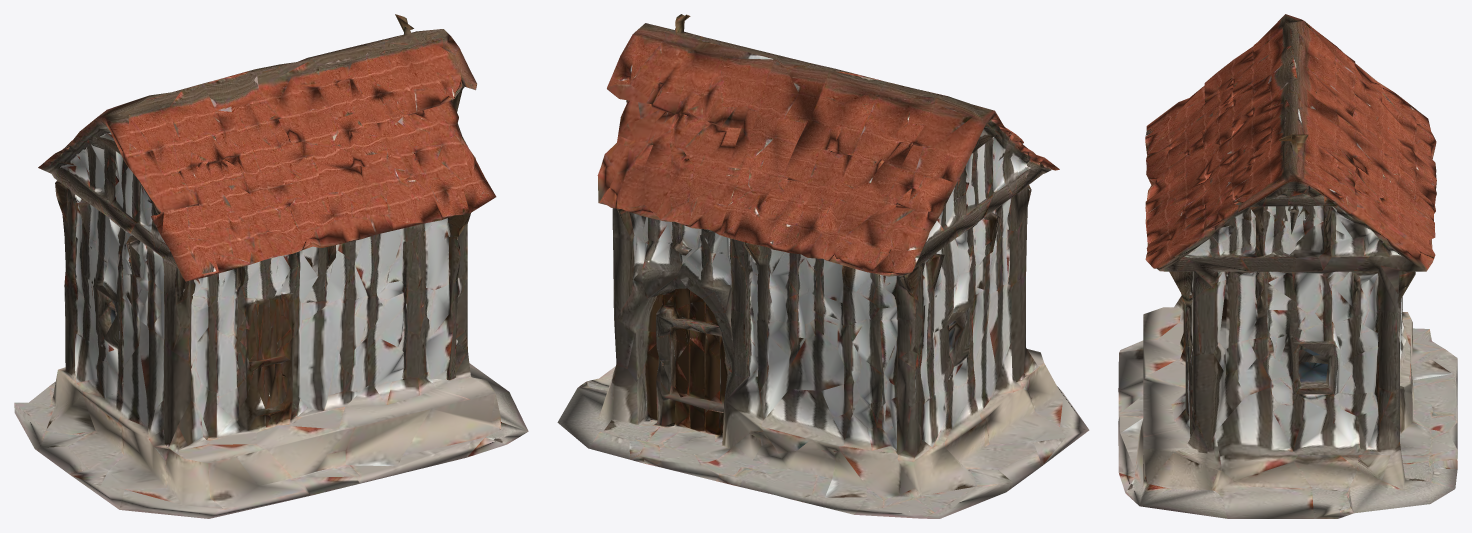
Rendered from kapelle.glb.
The picture shows the model from 3 angles, left to right: view 1: azimuth 30°, elevation 25°; view 2: azimuth 150°, elevation 25°; view 3: azimuth 270°, elevation 25°; orthographic projection. The views are drawn at different scales.
Bounding box in the file's own units: 1.9 × 1.6 × 1.4.
1 material, 1 textured.
